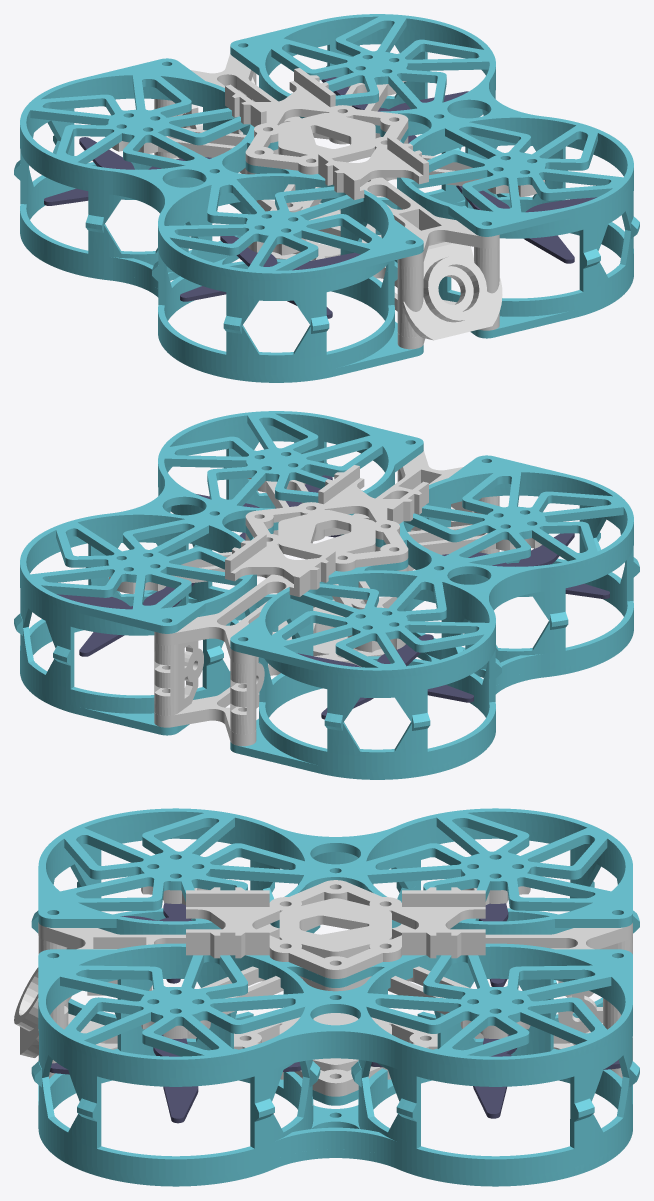
File: bateleur.v0.2.4.glb
3 renders of one model, top to bottom at view 1: azimuth 30°, elevation 25°; view 2: azimuth 150°, elevation 25°; view 3: azimuth 270°, elevation 25°, orthographic. The views are drawn at different scales.
Visible parts, largest first — view 1: Propguards-Topleft, Propguards-Topleft.001, Propguards-Bottomleft, Batteryplate, Coretop, Antennamount, Propguards-Bottomleft.001, Corebottom, Prop.1, Prop.3, Prop.4, Prop.2; view 2: Propguards-Topleft, Propguards-Topleft.001, Propguards-Bottomleft, Batteryplate, Propguards-Bottomleft.001, Coretop, Corebottom, Camera Bracket.001, Camera Bracket, Prop.2, Prop.4, Prop.3 (+1 smaller); view 3: Propguards-Topleft.001, Propguards-Topleft, Propguards-Bottomleft.001, Batteryplate, Coretop, Corebottom, Antennamount, Propguards-Bottomleft, Prop.1, Camera Bracket.001, Prop.2, Prop.3 (+1 smaller).
Part boxes in pixels (left/top/right/bottom): Propguards-Topleft: left=14, top=58, right=423, bottom=333; Propguards-Topleft.001: left=230, top=14, right=639, bottom=268; Propguards-Bottomleft: left=20, top=140, right=423, bottom=382; Batteryplate: left=225, top=68, right=428, bottom=199; Coretop: left=112, top=53, right=544, bottom=267; Antennamount: left=397, top=242, right=502, bottom=340; Propguards-Bottomleft.001: left=320, top=75, right=633, bottom=338; Corebottom: left=173, top=157, right=499, bottom=349; Prop.1: left=456, top=185, right=596, bottom=263; Prop.3: left=180, top=236, right=360, bottom=318; Prop.4: left=44, top=137, right=211, bottom=205; Prop.2: left=321, top=77, right=468, bottom=143; Propguards-Topleft: left=230, top=455, right=639, bottom=730; Propguards-Topleft.001: left=14, top=411, right=423, bottom=665; Propguards-Bottomleft: left=230, top=537, right=633, bottom=779; Batteryplate: left=225, top=465, right=428, bottom=596; Propguards-Bottomleft.001: left=20, top=472, right=333, bottom=735; Coretop: left=109, top=450, right=541, bottom=664; Corebottom: left=154, top=564, right=414, bottom=746; Camera Bracket.001: left=154, top=640, right=203, bottom=715; Camera Bracket: left=230, top=656, right=264, bottom=734; Prop.2: left=57, top=583, right=194, bottom=656; Prop.4: left=296, top=634, right=473, bottom=719; Prop.3: left=442, top=533, right=609, bottom=598; Propguards-Topleft.001: left=31, top=943, right=639, bottom=1121; Propguards-Topleft: left=31, top=808, right=639, bottom=984; Propguards-Bottomleft.001: left=38, top=1014, right=632, bottom=1186; Batteryplate: left=186, top=880, right=485, bottom=978; Coretop: left=38, top=886, right=632, bottom=1038; Corebottom: left=38, top=1013, right=622, bottom=1096; Antennamount: left=14, top=937, right=71, bottom=1063; Propguards-Bottomleft: left=68, top=886, right=632, bottom=1035; Prop.1: left=50, top=1035, right=301, bottom=1123; Camera Bracket.001: left=558, top=991, right=632, bottom=1060; Prop.2: left=371, top=1035, right=620, bottom=1118; Prop.3: left=120, top=903, right=192, bottom=983.
Size of the model in its own units: 119 by 33 by 125.
